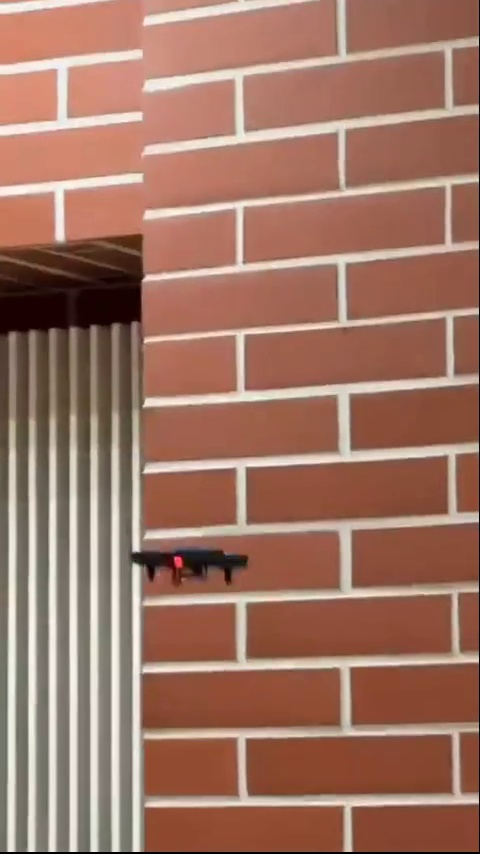drone: (128, 539, 257, 590)
